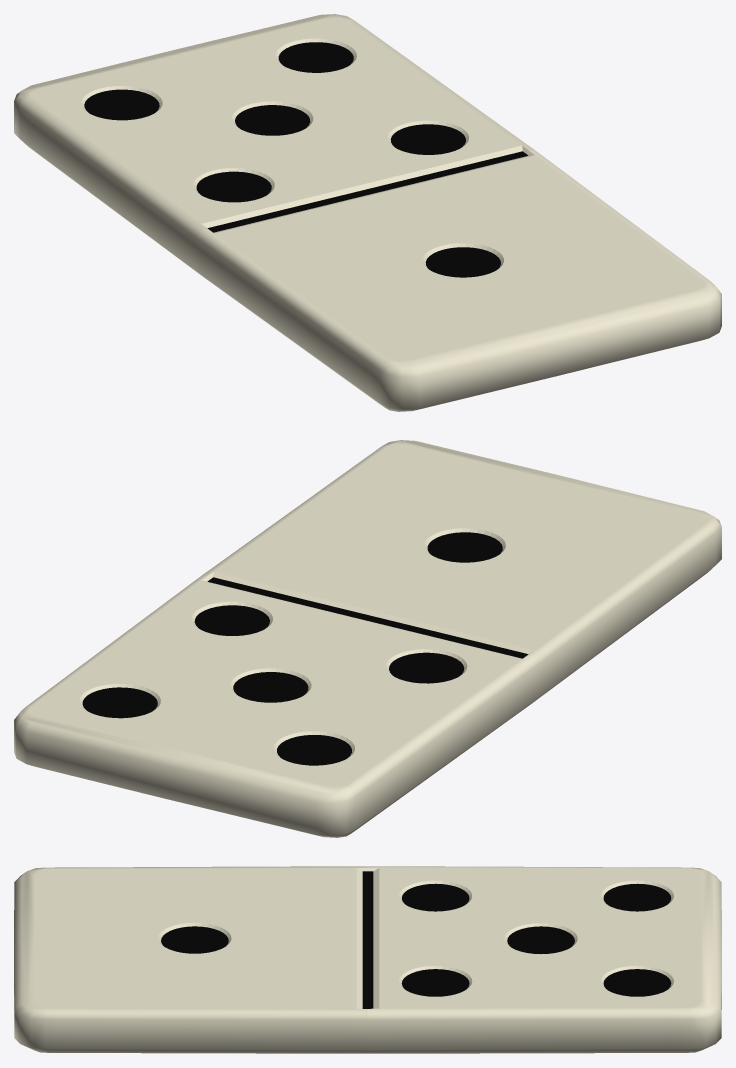
Rendered from Domino_1_5.glb.
3 renders of one model, top to bottom at view 1: azimuth 30°, elevation 25°; view 2: azimuth 150°, elevation 25°; view 3: azimuth 270°, elevation 25°, orthographic. The views are drawn at different scales.
Visible parts, largest first — view 1: Domino_1_5_A.001, Domino_1_5_B.001; view 2: Domino_1_5_B.001, Domino_1_5_A.001; view 3: Domino_1_5_A.001, Domino_1_5_B.001.
Part boxes in pixels (x1,y1,x2,y2): Domino_1_5_A.001: (197, 149, 721, 411); Domino_1_5_B.001: (14, 14, 533, 276); Domino_1_5_B.001: (14, 575, 538, 837); Domino_1_5_A.001: (202, 440, 721, 702); Domino_1_5_A.001: (14, 866, 367, 1053); Domino_1_5_B.001: (368, 866, 721, 1053).
Size of the model in its own units: 0.7725 by 0.1053 by 1.54.
